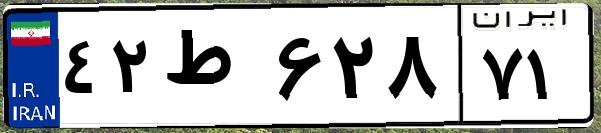1: (525, 38, 570, 115)
2: (330, 28, 385, 110), (110, 28, 158, 98)
4: (57, 26, 110, 100)
6: (270, 28, 330, 110)
7: (475, 38, 525, 113)
8: (385, 28, 445, 110)
ط: (158, 20, 270, 120)
